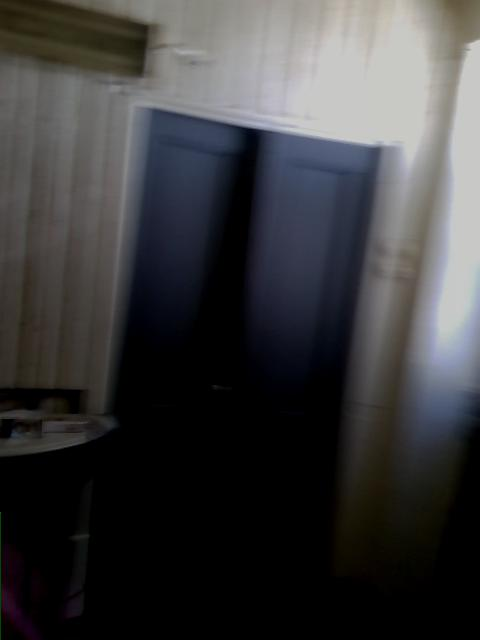closed_door: (83, 104, 384, 624)
